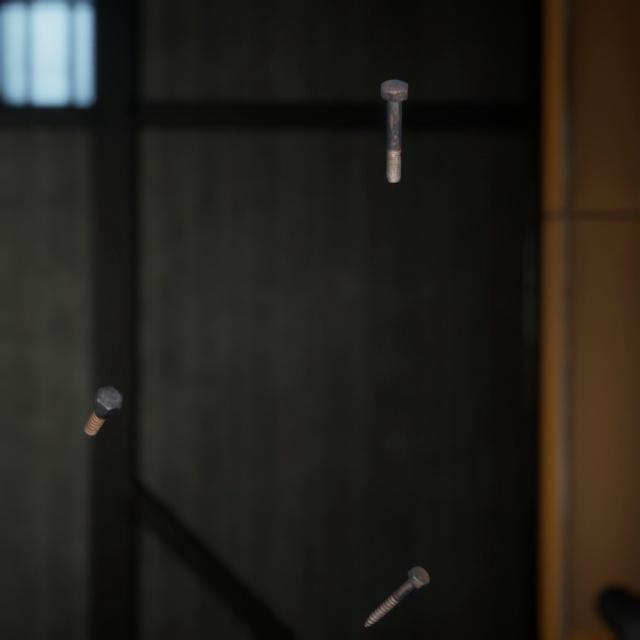bolt: (360, 539, 434, 609), (376, 63, 412, 175), (79, 362, 127, 421)
